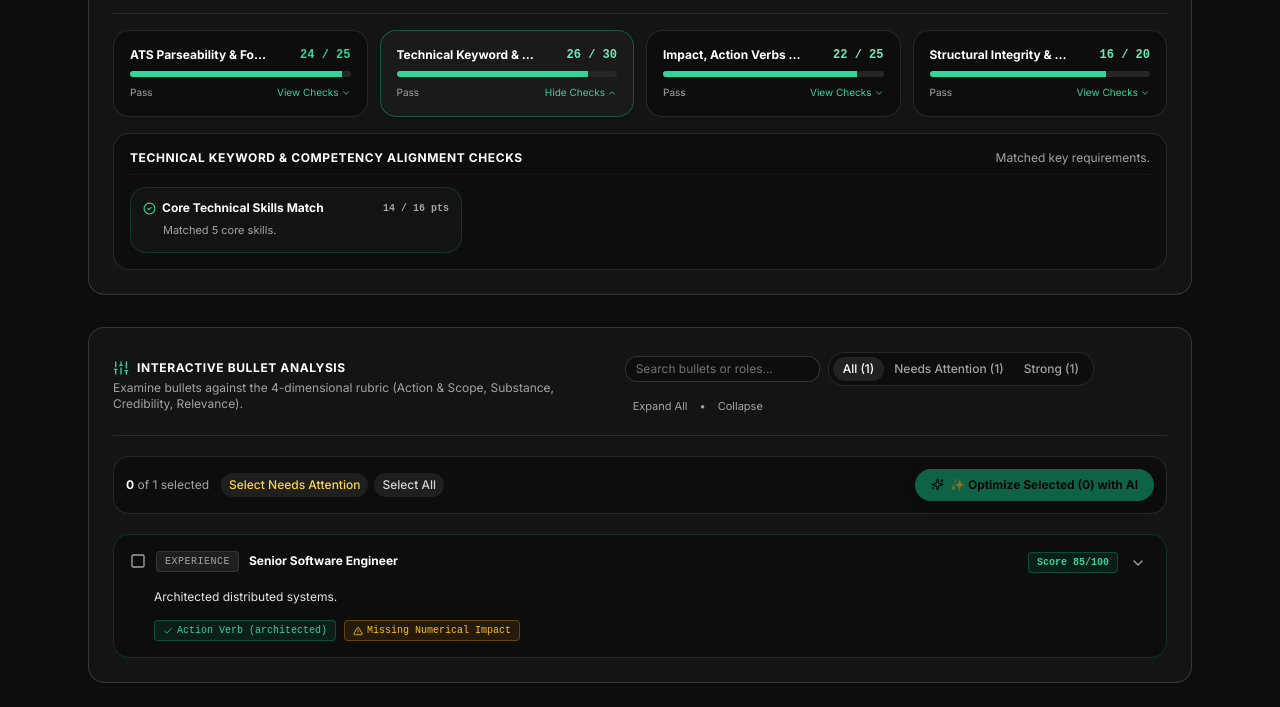
Test: ScannerPage ATS Evaluation Suite › safely renders legacy scan reports without fabricated rubric data or crashing
(page scrolled)
Expected: the text "Architected distributed systems." is shown, [154,589,337,604]
Note: Expand the bullet to verify no fake 4-bar rubric meters are displayed
Click the button titled "Expand 4-dimension rubric".
click(1138, 563)  # box [1126,551,1150,575]
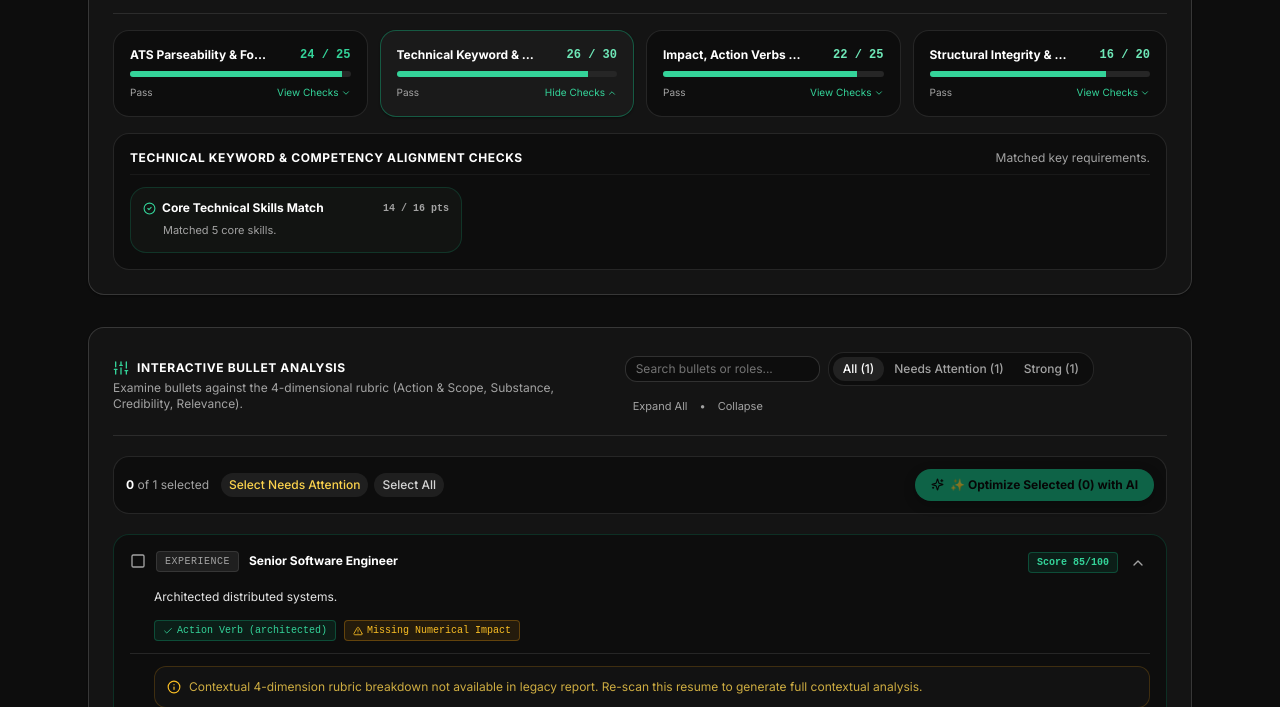
Now the text "Contextual 4-dimension rubric breakdown not available in legacy report" is shown, box [189,679,922,694]
